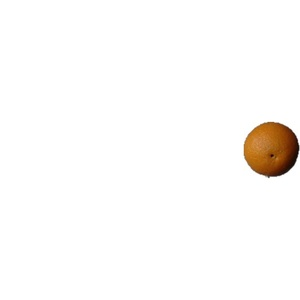laranja: (239, 119, 299, 184)
